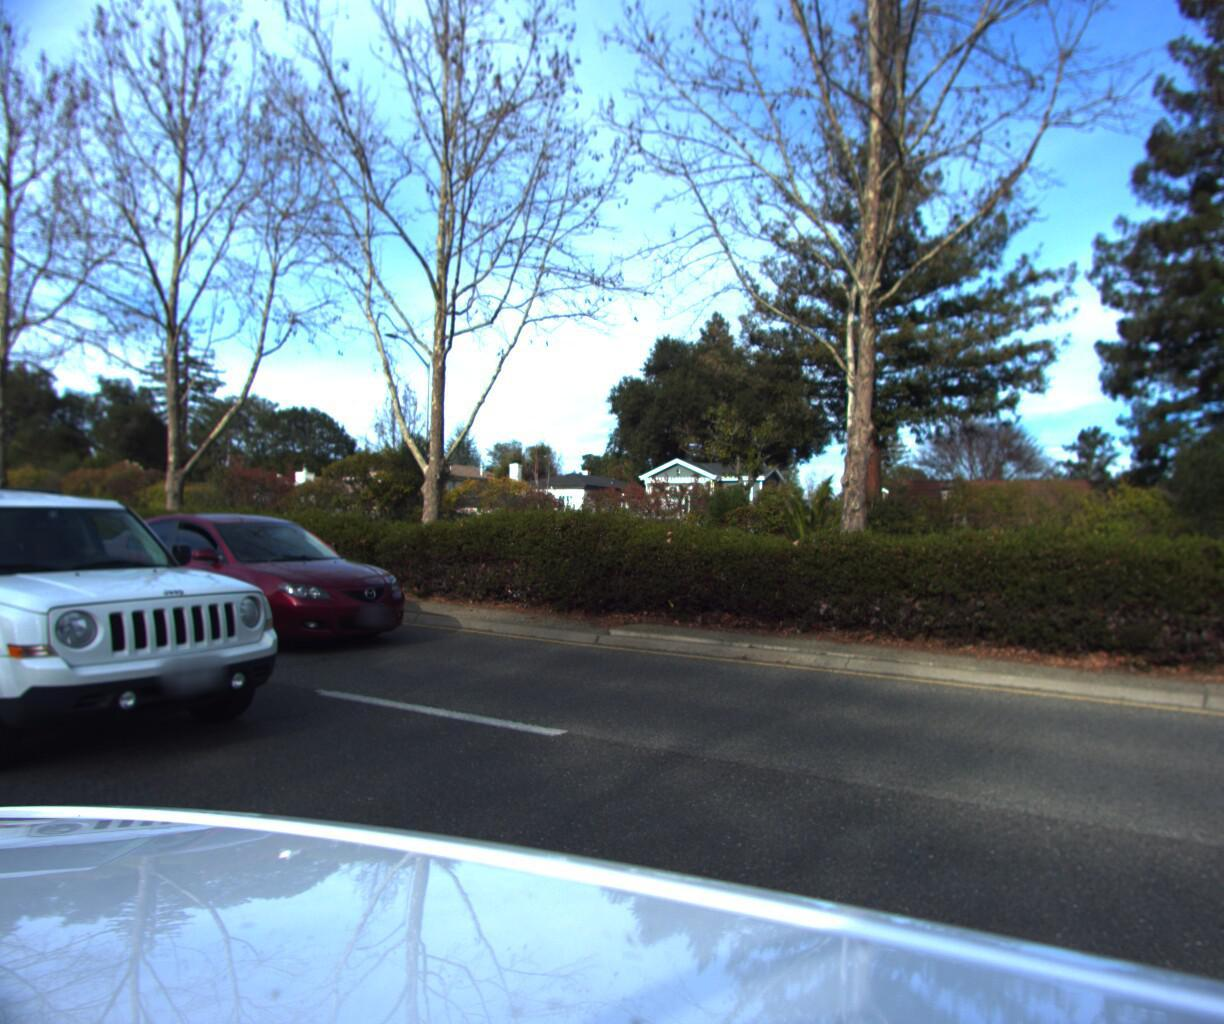car: (0, 458, 348, 828), (78, 511, 438, 667)
